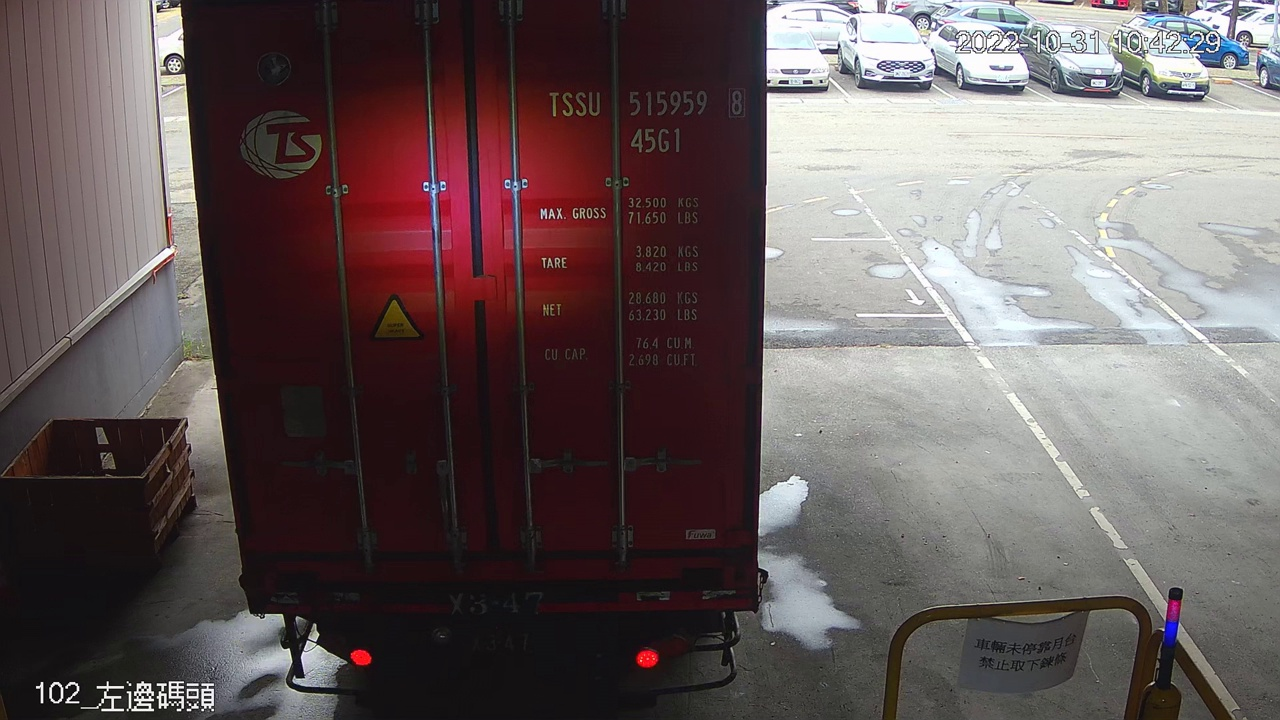container: (541, 79, 756, 162)
